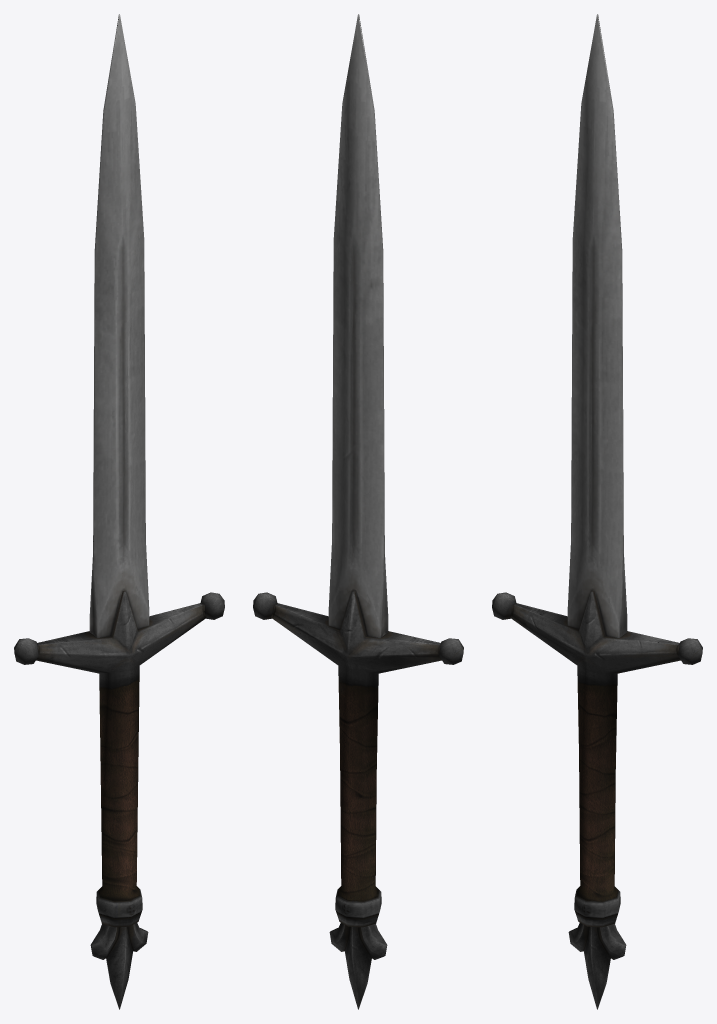
Rendered from dagger_01.fbx.
The picture shows the model from 3 angles, left to right: view 1: azimuth 30°, elevation 25°; view 2: azimuth 150°, elevation 25°; view 3: azimuth 330°, elevation 25°; orthographic projection.
Visible parts, largest first — view 1: dagger; view 2: dagger; view 3: dagger.
Boxes of the visible parts, x1,y1,x2,y2 form: dagger: [14, 14, 224, 1009]; dagger: [253, 14, 463, 1009]; dagger: [492, 14, 702, 1009].
Bounding box in the file's own units: 0.1525 × 0.6889 × 0.0309.
